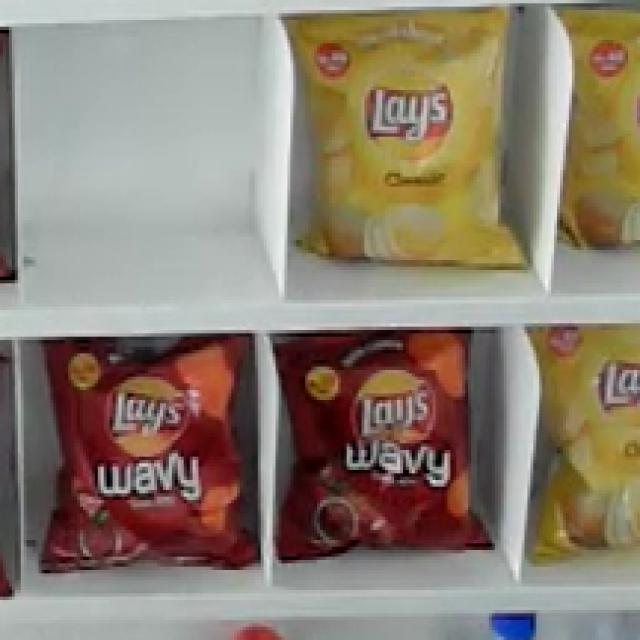Plastic: (278, 4, 532, 281), (32, 332, 264, 583), (272, 326, 506, 567), (521, 317, 640, 569), (549, 2, 640, 258)
